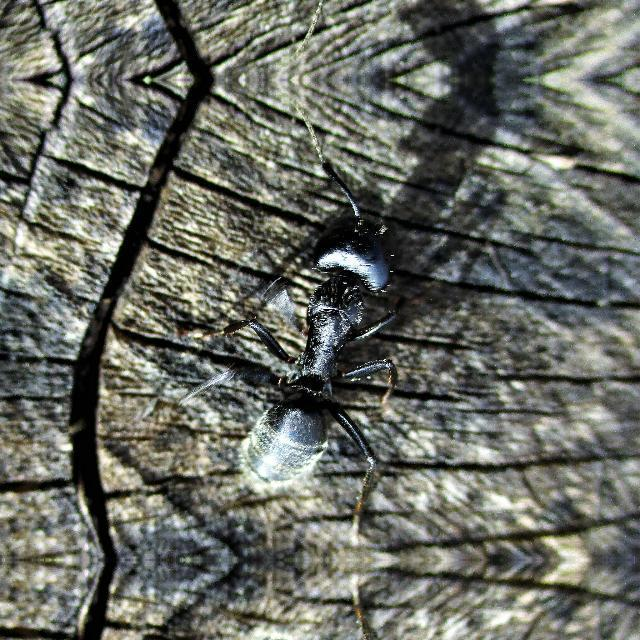Camponotus: (224, 159, 466, 513)
